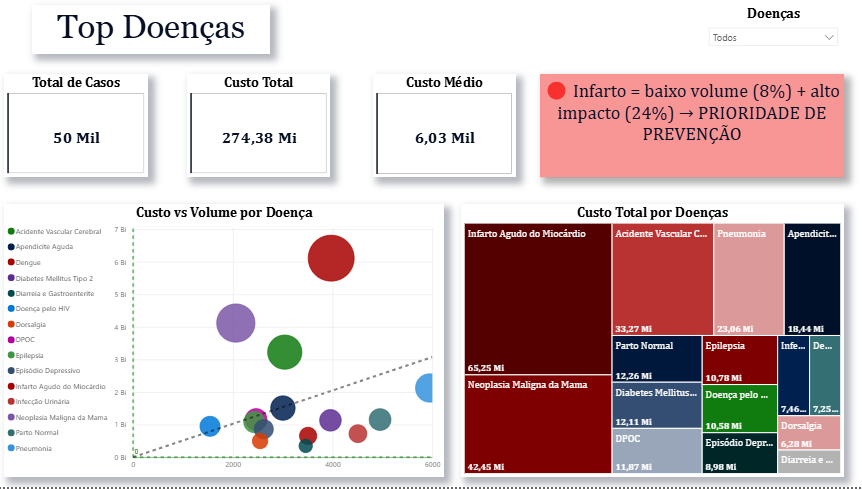

Layout of this report page (visuals, bound fields, positions):
{"tool":"powerbi","page":{"name":"Top Doenças","canvas":[1280,720],"ordinal":1},"visuals":[{"type":"textbox","box":[59,14.4,348.5,70.6],"z":1000},{"type":"treemap","title":"Custo Total por Doenças","fields":{"Group":["mart_doencas_agg.desc_cid"],"Values":["Avg(mart_doencas_agg.custo_total)"]},"box":[686.3,305.9,560.5,399.5],"z":3000},{"type":"cardVisual","title":"Total de Casos","fields":{"Data":["Sum(mart_doencas_resumo.total_casos)"]},"box":[17.6,115.6,210.7,150.7],"z":4000},{"type":"cardVisual","title":"Custo Total ","fields":{"Data":["Sum(mart_doencas_resumo.custo_total)"]},"box":[285.4,115.6,209.3,150.7],"z":5000},{"type":"cardVisual","title":"Custo Médio","fields":{"Data":["mart_analise_uf.Custo Médio por Caso"]},"box":[557.3,115.2,208.8,151.2],"z":6000},{"type":"slicer","title":"Doenças","fields":{"Values":["mart_doencas_resumo.desc_cid"]},"box":[1038.4,14.4,209.1,70.3],"z":7000},{"type":"textbox","box":[802,115.6,444.9,150.7],"z":8000},{"type":"scatterChart","title":"Custo vs Volume por Doença","fields":{"Series":["mart_top_doencas.desc_cid"],"Size":["Sum(mart_top_doencas.custo_total)"],"X":["Sum(mart_top_doencas.total_casos)"],"Y":["Sum(mart_top_doencas.custo_total)"]},"box":[17.6,305.9,643.9,399.5],"z":8001}]}

Visuals, with their boxes in screenshot pixels (x1, y1, x2, y2), scaled from the page's 1280x720 canvas onto the 862x490 screenshot:
textbox: {"x1": 40, "y1": 10, "x2": 274, "y2": 58}
"Custo Total por Doenças" treemap: {"x1": 462, "y1": 208, "x2": 840, "y2": 480}
"Total de Casos" cardVisual: {"x1": 12, "y1": 79, "x2": 154, "y2": 181}
"Custo Total " cardVisual: {"x1": 192, "y1": 79, "x2": 333, "y2": 181}
"Custo Médio" cardVisual: {"x1": 375, "y1": 78, "x2": 516, "y2": 181}
"Doenças" slicer: {"x1": 699, "y1": 10, "x2": 840, "y2": 58}
textbox: {"x1": 540, "y1": 79, "x2": 840, "y2": 181}
"Custo vs Volume por Doença" scatterChart: {"x1": 12, "y1": 208, "x2": 445, "y2": 480}
